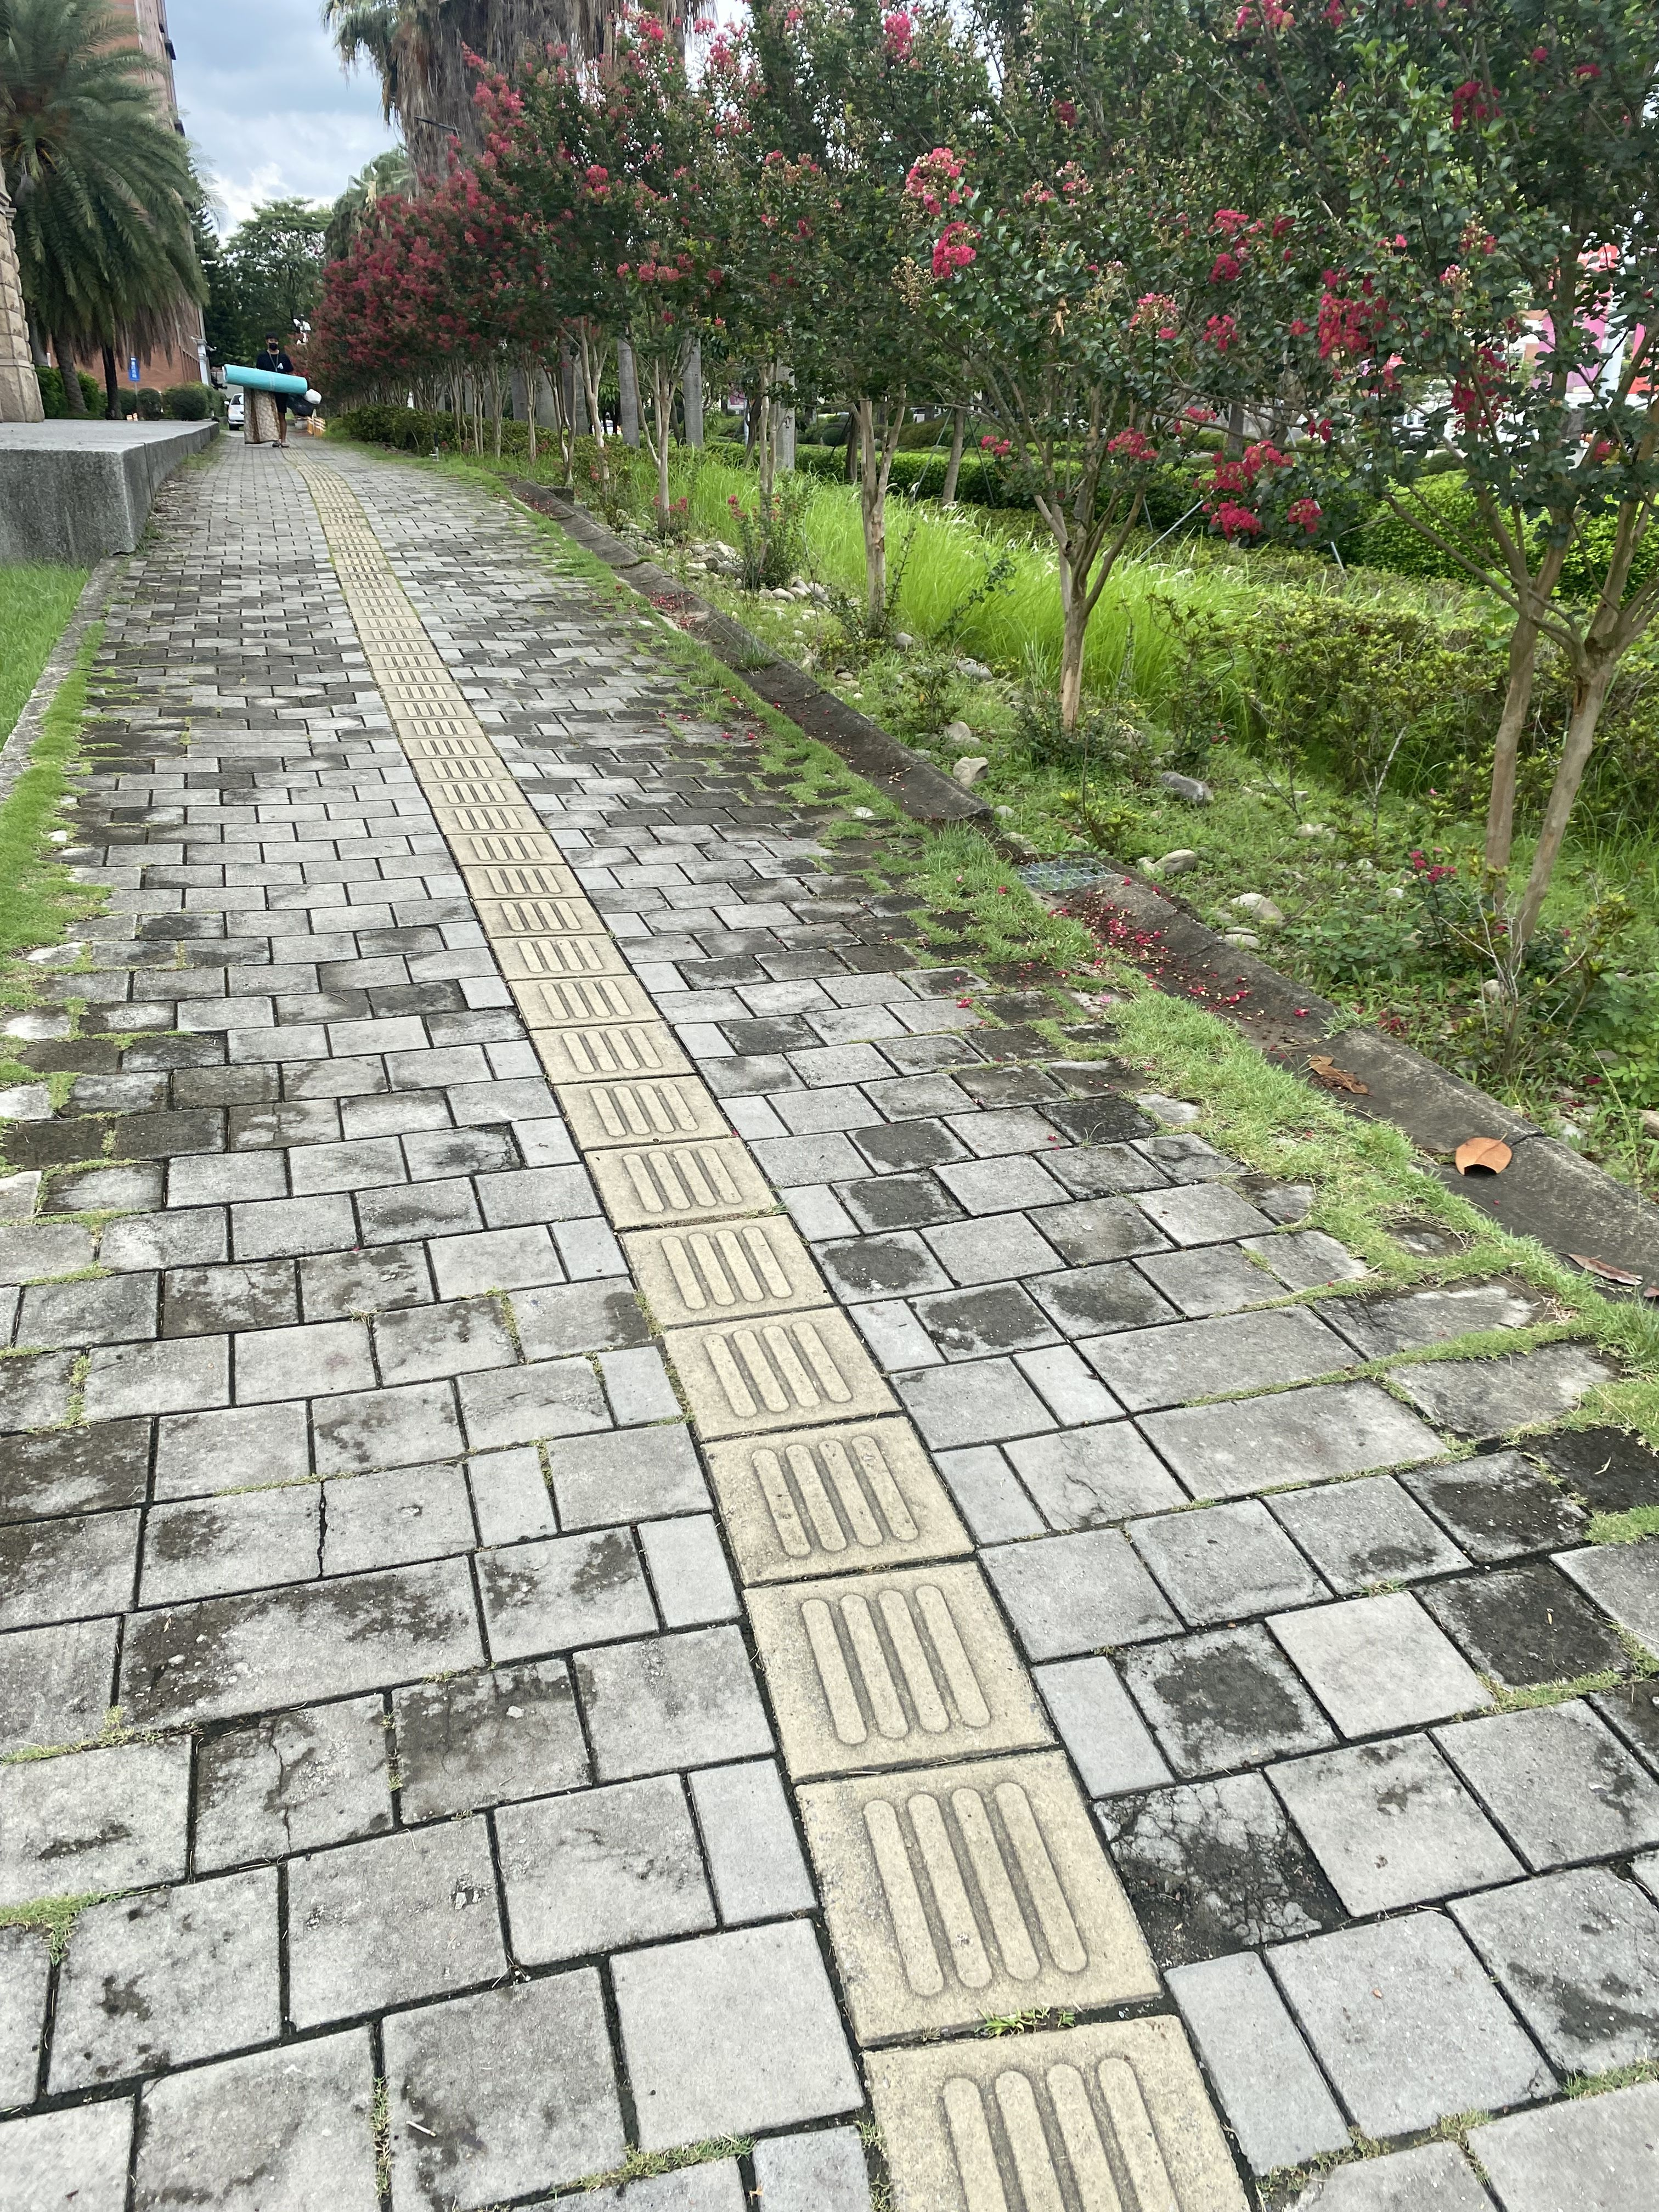sidewalk: (7, 388, 1659, 2212)
